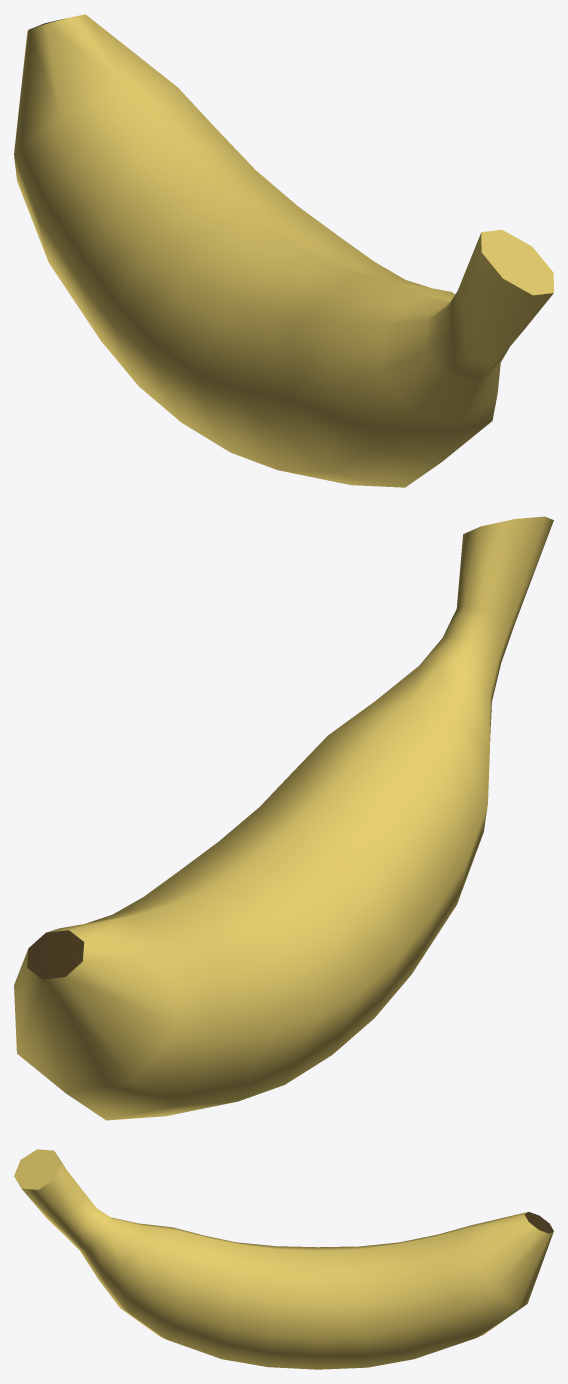
File: Banana.fbx
3 renders of one model, top to bottom at view 1: azimuth 30°, elevation 25°; view 2: azimuth 150°, elevation 25°; view 3: azimuth 270°, elevation 25°, orthographic. The views are drawn at different scales.
Parts seen in each view (by area): view 1: Banana1; view 2: Banana1; view 3: Banana1.
Boxes of the visible parts, x1,y1,x2,y2 form: Banana1: [14, 14, 553, 487]; Banana1: [14, 516, 553, 1120]; Banana1: [14, 1149, 553, 1369].
Bounding box in the file's own units: 0.7031 × 1.17 × 2.74.
